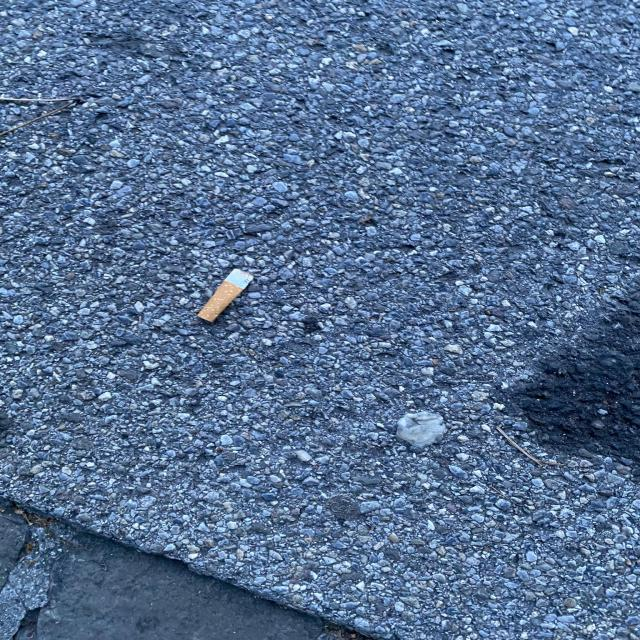other waste: (196, 267, 254, 323)
